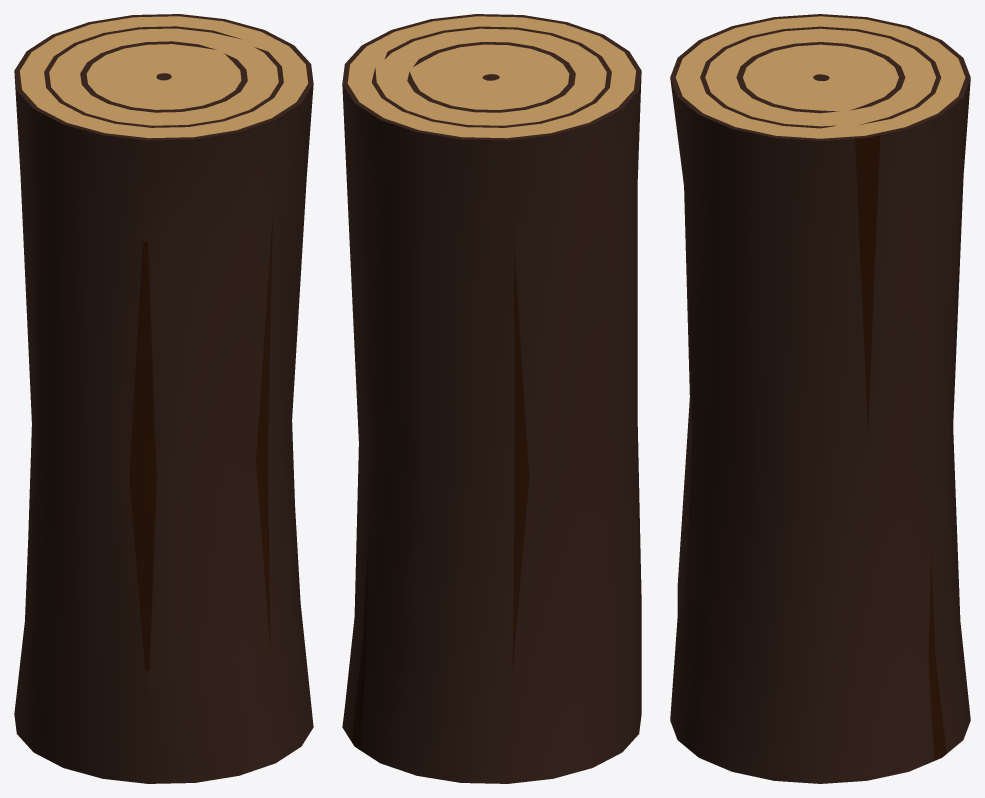
File: LOG.fbx
3 renders of one model, left to right at view 1: azimuth 30°, elevation 25°; view 2: azimuth 150°, elevation 25°; view 3: azimuth 270°, elevation 25°, orthographic.
Parts seen in each view (by area): view 1: pCylinder1; view 2: pCylinder1; view 3: pCylinder1.
Boxes of the visible parts, x1,y1,x2,y2 form: pCylinder1: (14,14,313,783); pCylinder1: (342,14,641,783); pCylinder1: (670,14,970,783).
Bounding box in the file's own units: 2 × 4.72 × 2.
